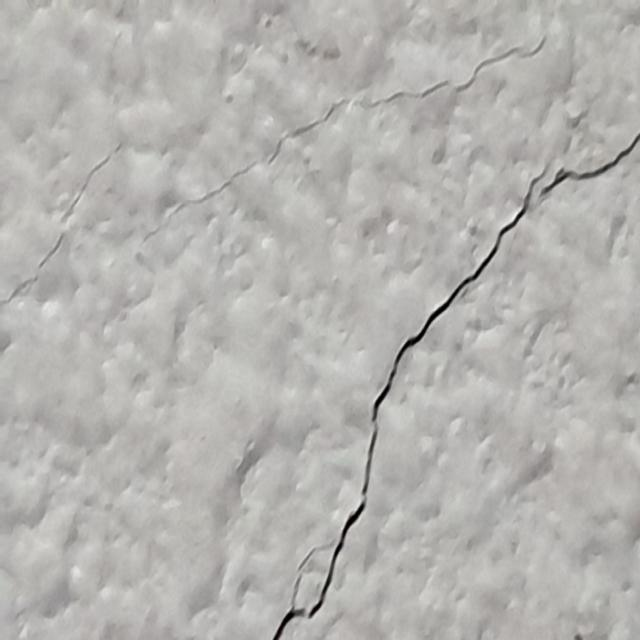SurfaceCrack: (225, 31, 640, 640)
